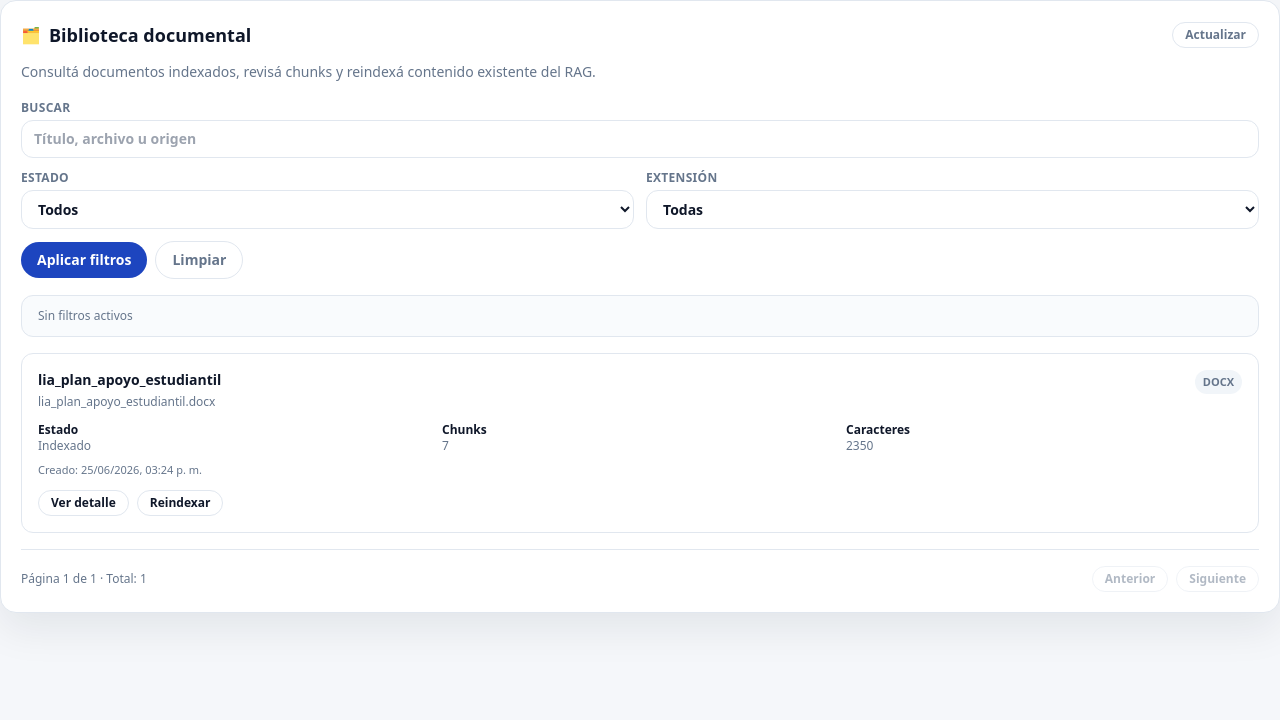
Scenario: DocumentLibraryPanel › lista documentos y muestra detalle
Expected: the heading "lia_plan_apoyo_estudiantil" is shown, [38,370,221,390]
Expected: the text "Página 1 de 1 · Total: 1" is shown, [21,571,147,587]
Click the button "Ver detalle" at coordinates (83, 503), box [38,490,129,516]
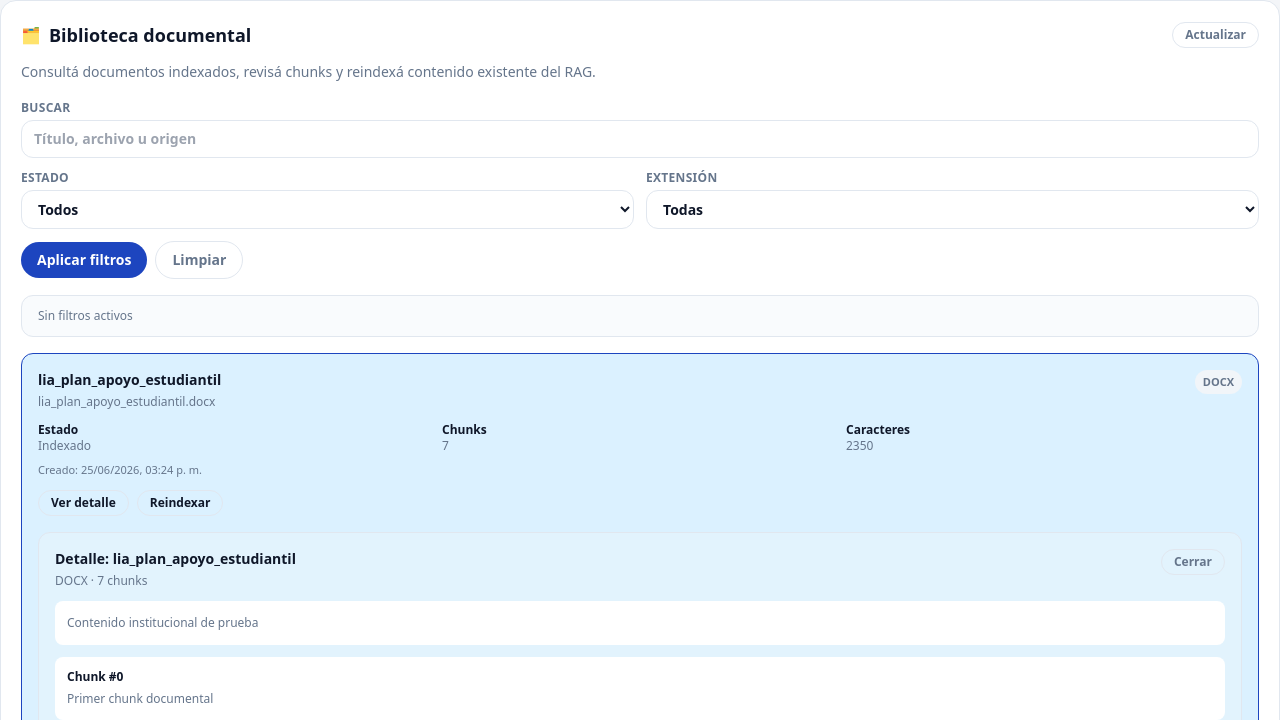
Expected: the text "Contenido institucional de prueba" is shown, [55,601,1225,645]
Expected: the text "Primer chunk documental" is shown, [67,690,213,707]
